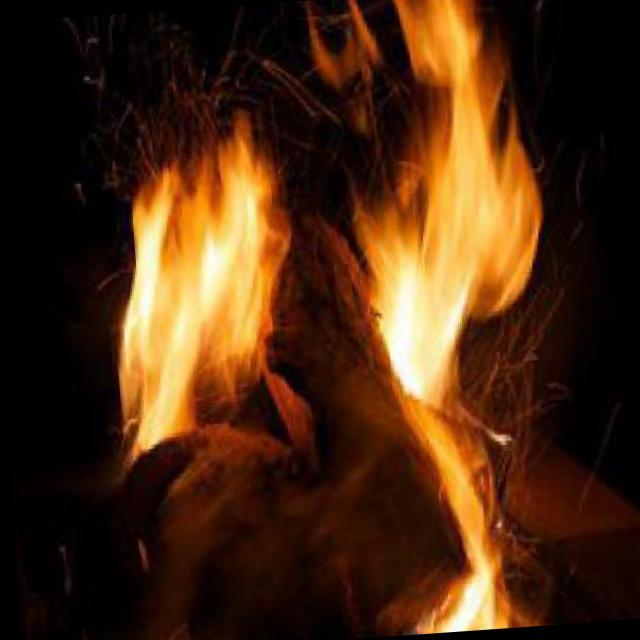fire: (80, 0, 568, 640)
